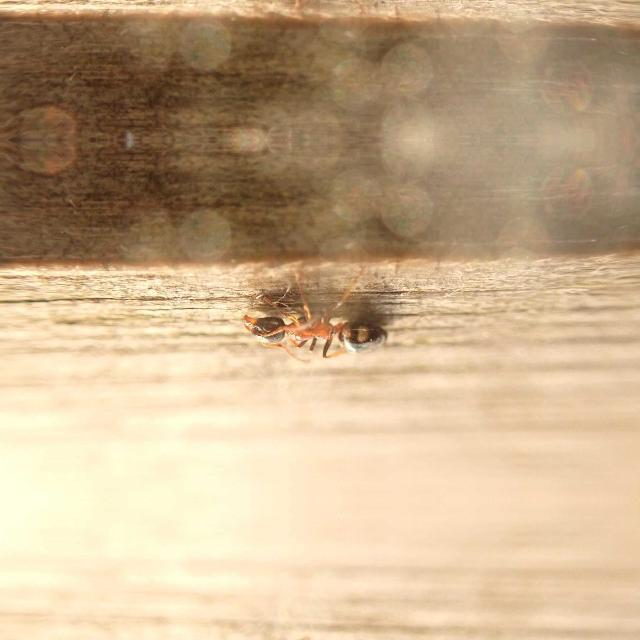Dolichoderus: (224, 287, 410, 358)
